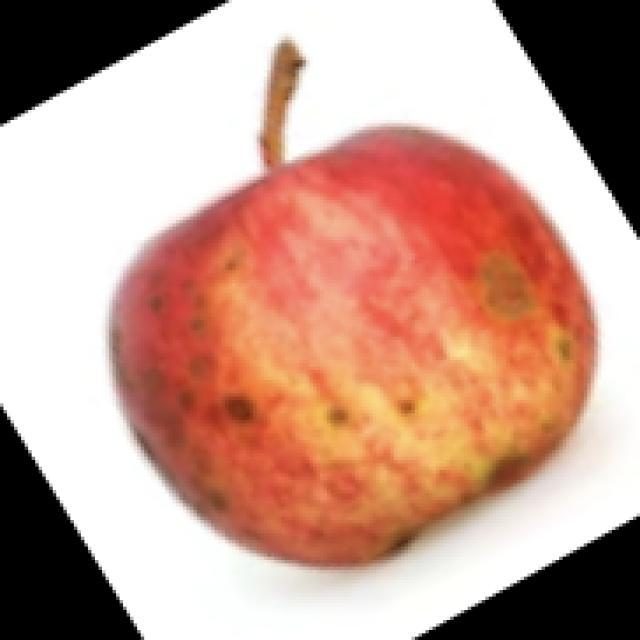Rotten: (112, 120, 588, 563)
